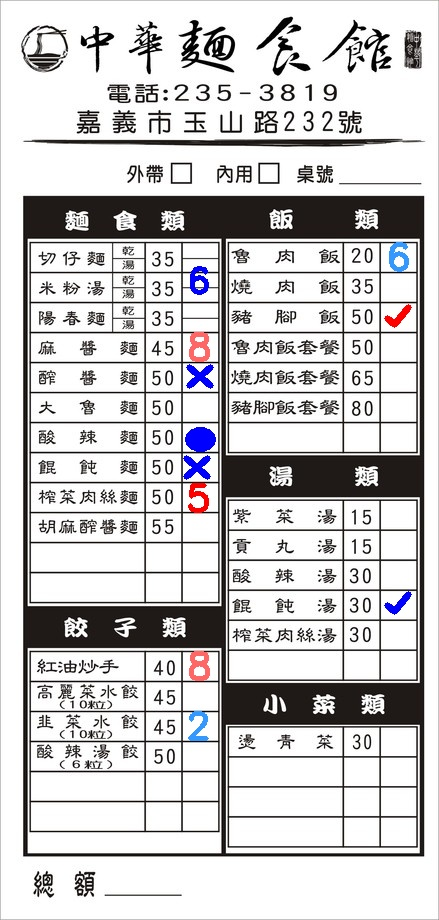marked_circle: (181, 424, 217, 453)
marked_number_2: (181, 711, 217, 740)
marked_number_5: (181, 483, 217, 512)
marked_number_6: (381, 242, 417, 271), (183, 273, 217, 286)
marked_number_8: (182, 651, 218, 680), (182, 332, 218, 361)
marked_tick: (380, 302, 416, 331), (380, 589, 416, 618)
marked_x: (182, 362, 218, 391), (179, 453, 215, 482)
